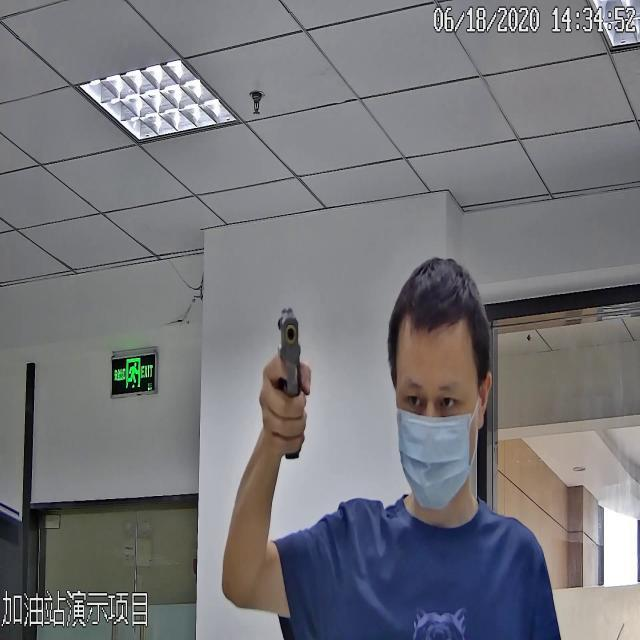gun-knife-thesis - v11 Yolov5 augmented: (258, 303, 316, 465)
